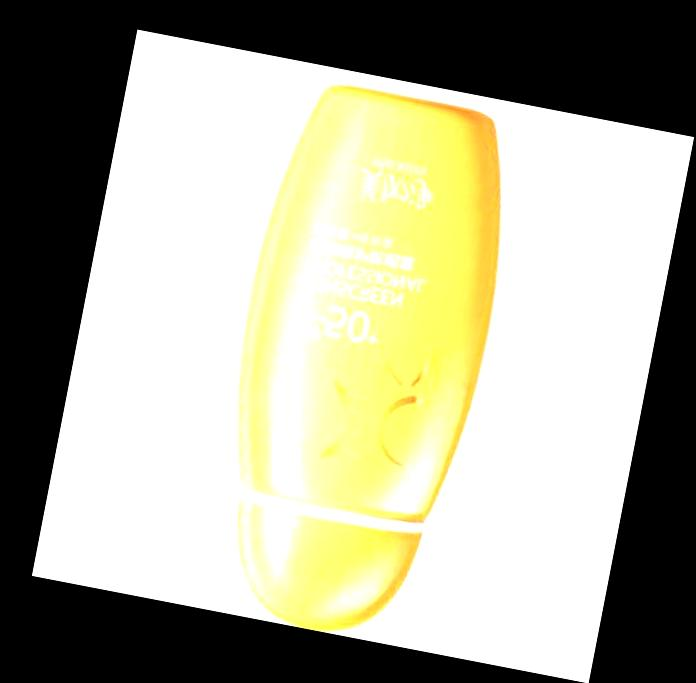cosmetic: (187, 71, 528, 651)
